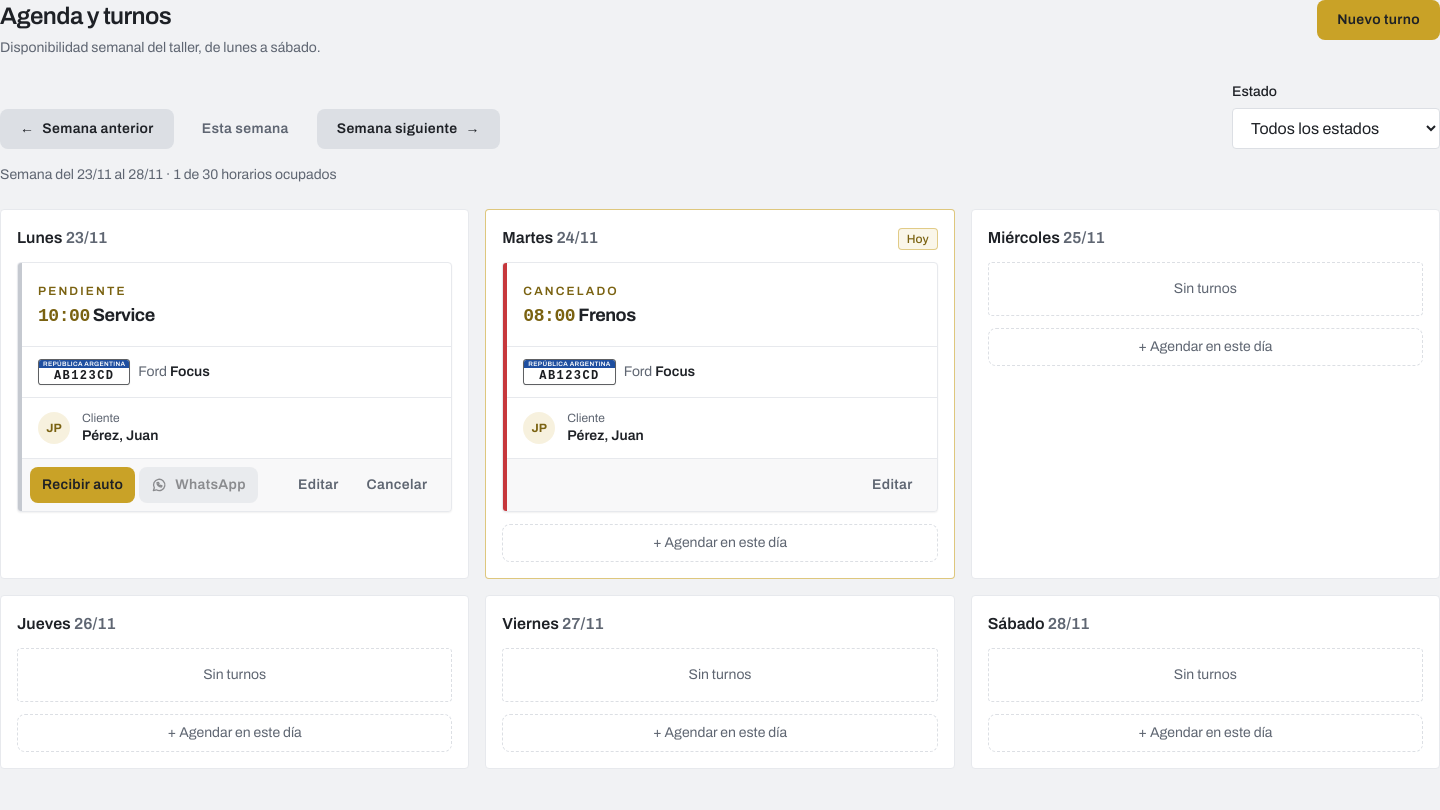
Test: Turnos › con turnos en la semana › si cancelar falla muestra el error en la confirmación
Expected: the text "Service" is shown, [93, 305, 155, 325]
Click the button "Cancelar".
click(397, 485)  # box [355, 467, 439, 503]
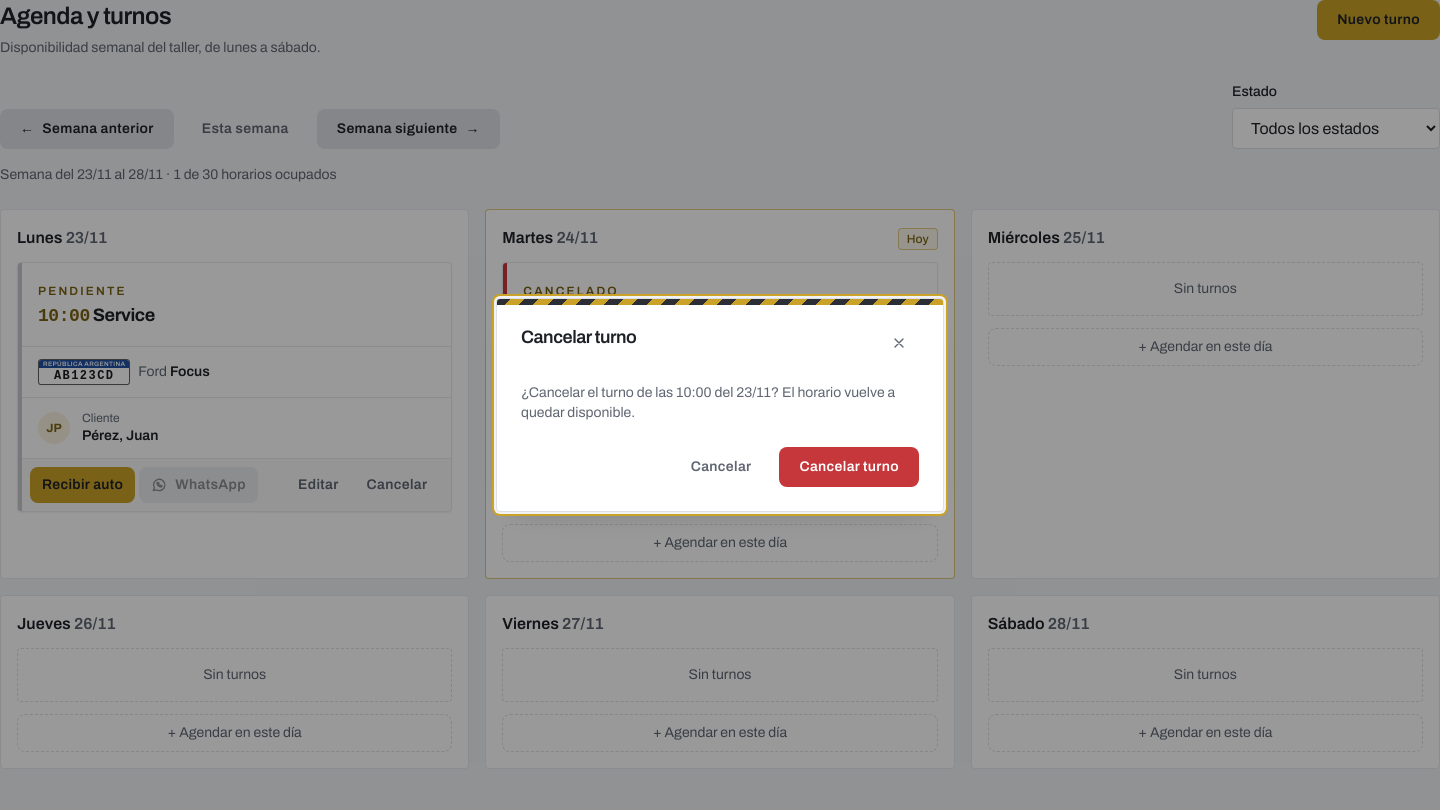
Click the button "Cancelar turno".
click(849, 467)  # box [780, 447, 919, 487]
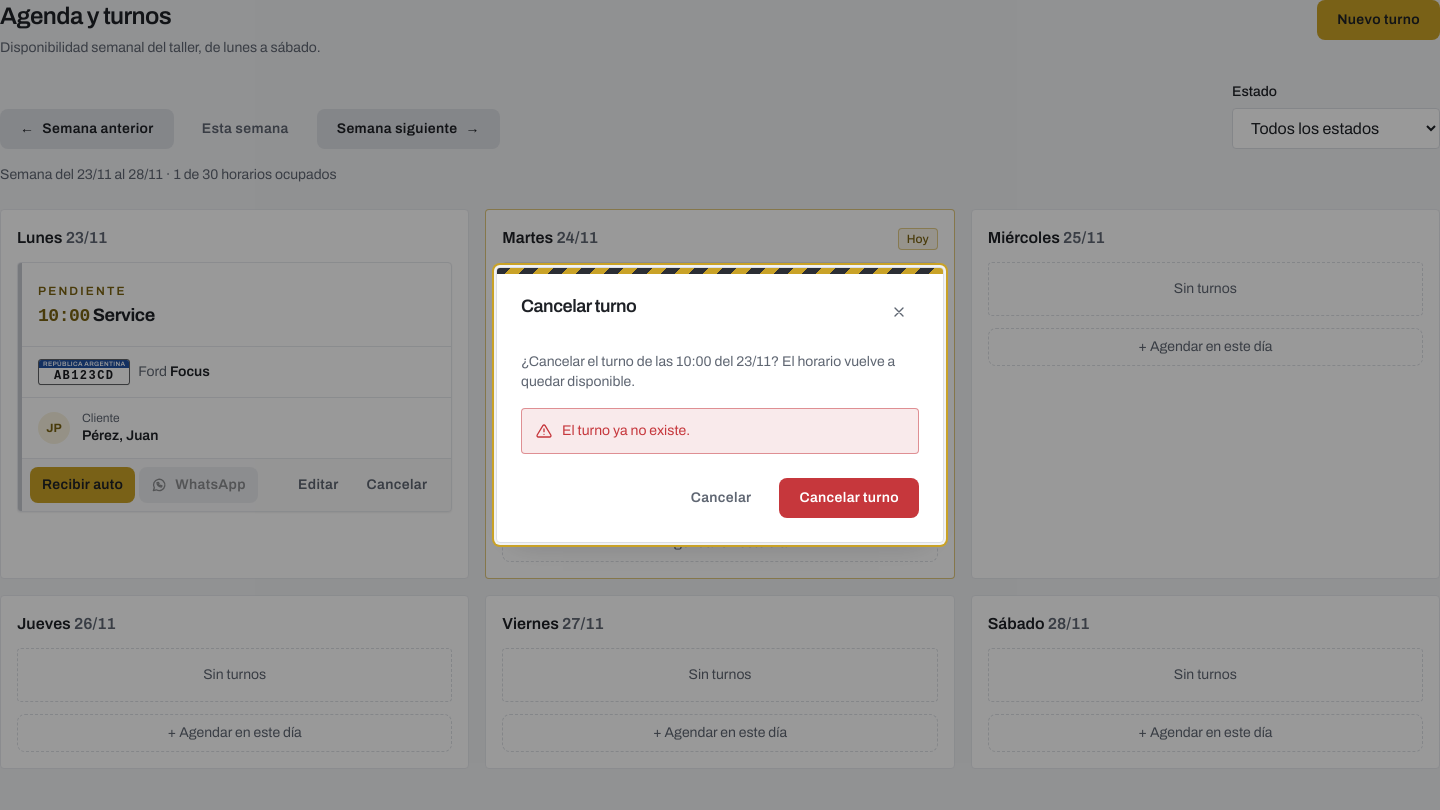
Result: the text "El turno ya no existe." is shown at [562, 423, 690, 438]
